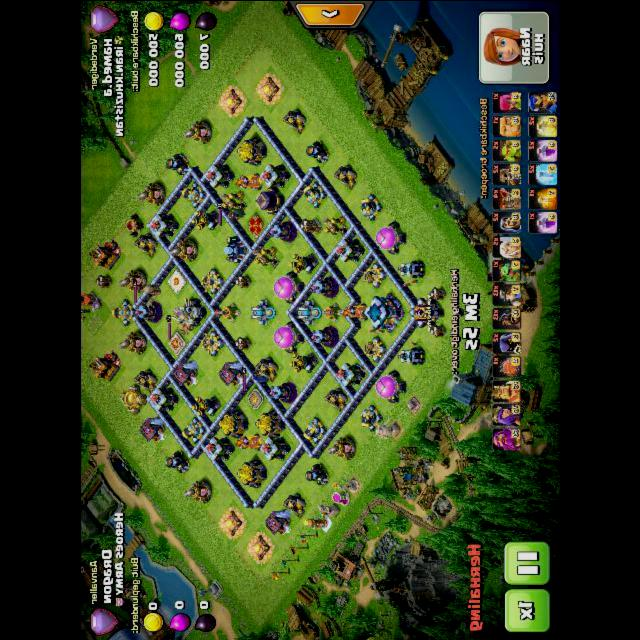AD: (190, 395, 221, 416), (288, 252, 319, 273), (288, 351, 319, 372), (190, 209, 220, 230)
AirSweeper: (214, 301, 240, 321), (322, 301, 343, 321)
BombTower: (396, 259, 425, 276), (396, 346, 424, 363)
Canon: (181, 416, 206, 443), (181, 180, 206, 207), (302, 416, 326, 443), (110, 298, 134, 325), (303, 180, 326, 207), (359, 404, 381, 431), (360, 193, 382, 220)
ClanCastle: (408, 296, 443, 326)
Eagle: (169, 297, 206, 326)
Inferno: (235, 433, 262, 450), (235, 173, 262, 190), (342, 303, 368, 320)
KingPad: (166, 331, 184, 354)
Mortar: (165, 450, 190, 473), (304, 462, 328, 485), (305, 140, 329, 163), (165, 152, 189, 175)
QueenPad: (246, 213, 264, 238)
RcPad: (247, 388, 262, 408)
Scattershot: (249, 299, 275, 324), (295, 299, 321, 324)
TH13: (361, 295, 403, 328)
WardenPad: (167, 269, 183, 291)
WizzTower: (310, 276, 338, 296), (310, 325, 338, 345), (268, 220, 296, 240), (134, 301, 161, 321), (269, 381, 296, 401)
Xbow: (362, 335, 386, 362), (362, 261, 386, 288), (200, 267, 223, 294), (201, 329, 224, 356)
